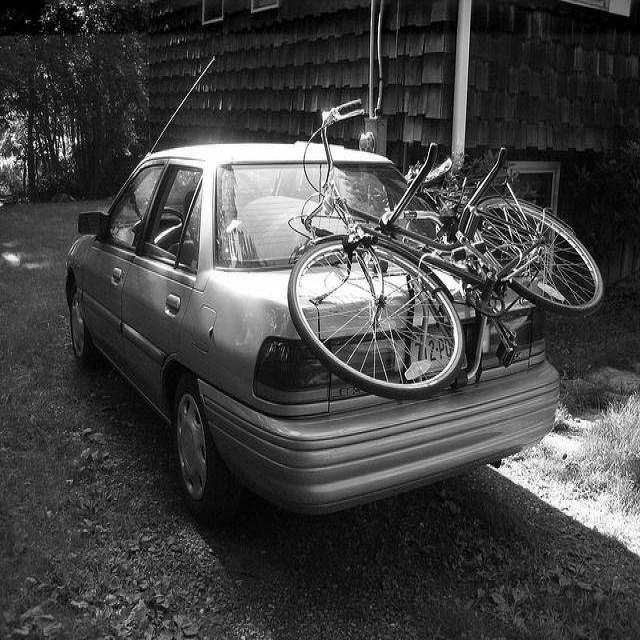vehicle: (64, 55, 558, 513)
